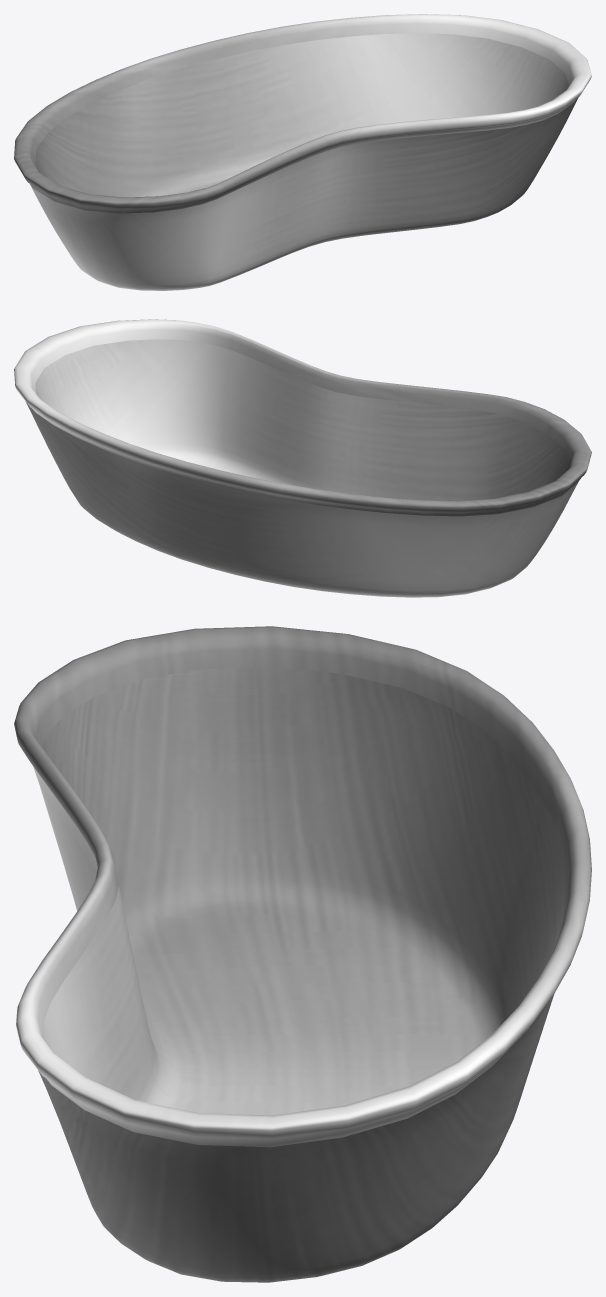
Rendered from kidney_Dish.fbx.
3 views of the same model, one above another, from view 1: azimuth 30°, elevation 25°; view 2: azimuth 150°, elevation 25°; view 3: azimuth 270°, elevation 25° (orthographic). The views are drawn at different scales.
Parts seen in each view (by area): view 1: kidney_dish; view 2: kidney_dish; view 3: kidney_dish.
Boxes of the visible parts, left/top/right/bottom form: kidney_dish: left=14, top=14, right=591, bottom=290; kidney_dish: left=14, top=319, right=591, bottom=597; kidney_dish: left=14, top=626, right=591, bottom=1282.
Bounding box in the file's own units: 36.03 × 7.89 × 17.53.
Materials: 1 (1 with a texture image).
